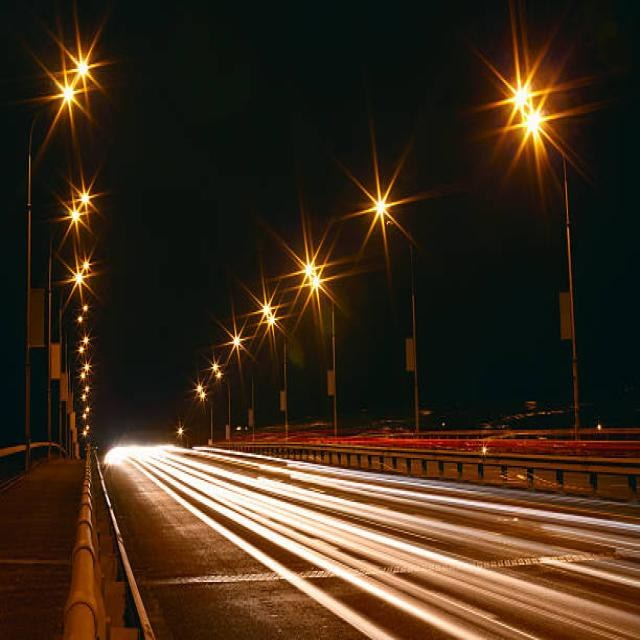acesa: (459, 11, 605, 181), (28, 21, 110, 127), (271, 209, 348, 321), (50, 179, 105, 275), (362, 186, 401, 230), (193, 378, 211, 408), (227, 332, 245, 361), (260, 304, 275, 326)
